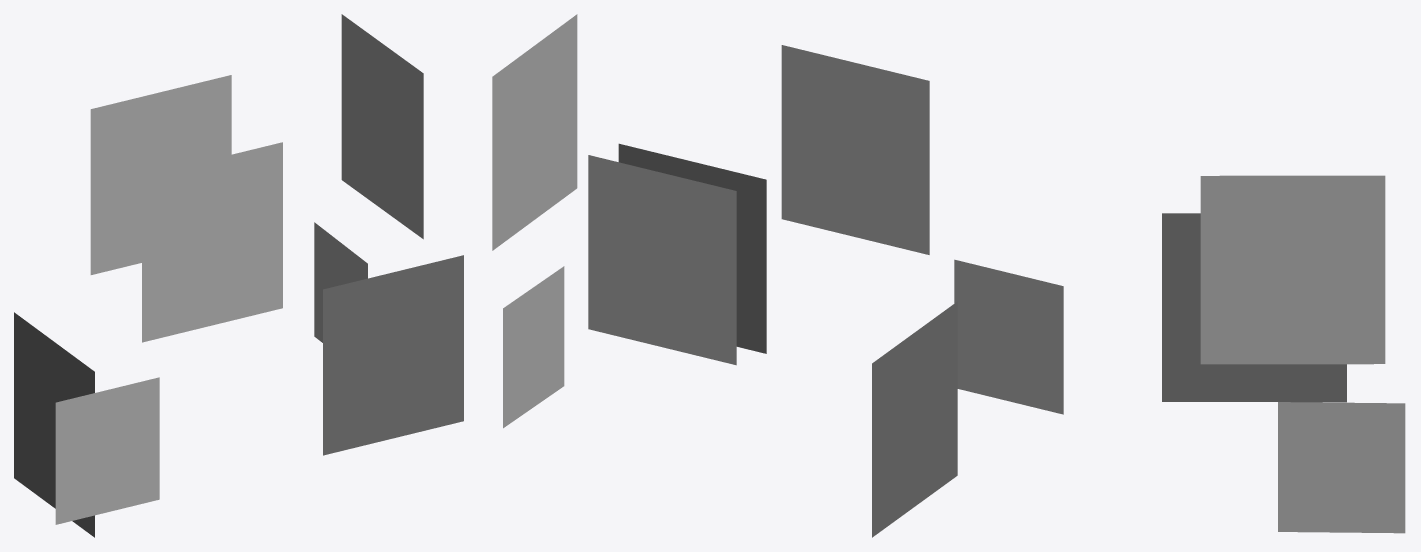
Rendered from aboutphoto.glb.
3 renders of one model, left to right at view 1: azimuth 30°, elevation 25°; view 2: azimuth 150°, elevation 25°; view 3: azimuth 270°, elevation 25°, orthographic. The views are drawn at different scales.
Visible parts, largest first — view 1: sample_one, sample_two, sample_one.004, sample_one.002, sample_one.001, sample_two.001, sample_one.003; view 2: sample_one.004, sample_one, sample_two.001, sample_one.002, sample_one.001, sample_two, sample_one.003; view 3: sample_one.002, sample_one.003, sample_two.001.
Boxes of the visible parts, x1,y1,x2,y2 form: sample_one: (142, 142, 282, 342); sample_two: (323, 255, 463, 455); sample_one.004: (90, 75, 231, 274); sample_one.002: (341, 14, 423, 239); sample_one.001: (55, 377, 159, 524); sample_two.001: (14, 312, 94, 537); sample_one.003: (314, 222, 367, 342); sample_one.004: (588, 155, 736, 365); sample_one: (781, 45, 929, 254); sample_two.001: (872, 301, 957, 537); sample_one.002: (492, 14, 577, 250); sample_one.001: (954, 259, 1063, 414); sample_two: (618, 143, 766, 353); sample_one.003: (503, 266, 564, 428); sample_one.002: (1200, 175, 1385, 364); sample_one.003: (1278, 402, 1405, 533); sample_two.001: (1162, 213, 1346, 402).
Bounding box in the file's own units: 2.62 × 2.21 × 1.51.
Materials: 2 (2 with a texture image).
